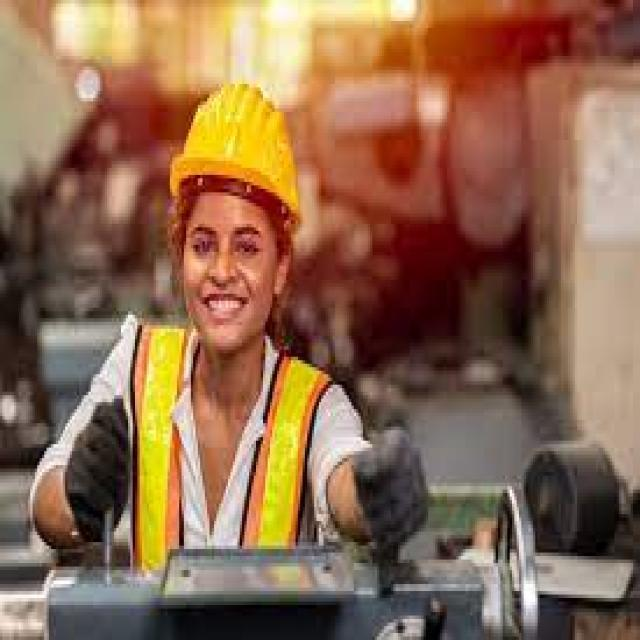reflective_jacket: (109, 314, 346, 598)
safety_helmet: (162, 73, 314, 234)
